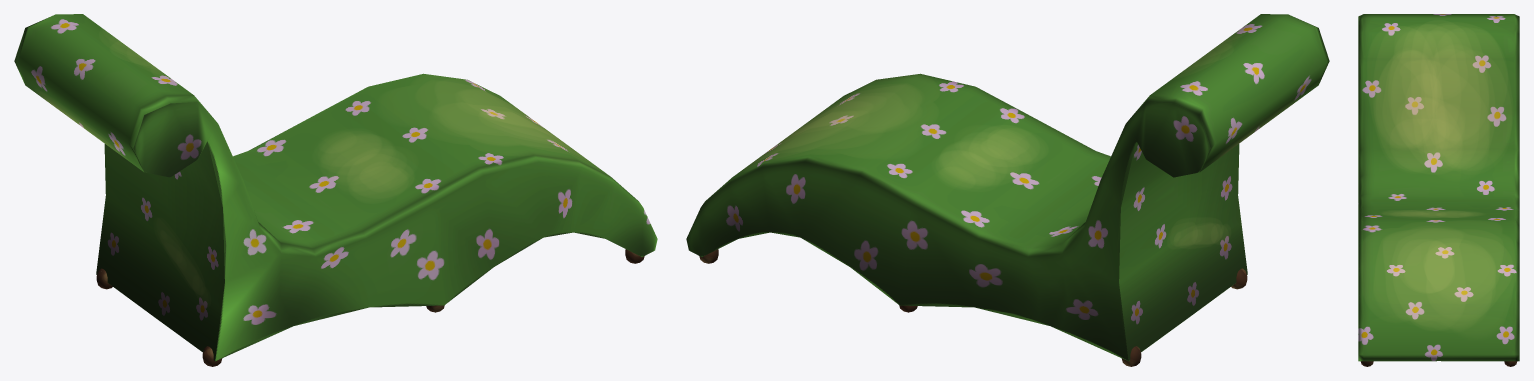
The model's file is chair2.obj.
3 renders of one model, left to right at view 1: azimuth 30°, elevation 25°; view 2: azimuth 150°, elevation 25°; view 3: azimuth 270°, elevation 25°, orthographic. The views are drawn at different scales.
Visible parts, largest first — view 1: chair2; view 2: chair2; view 3: chair2.
Part boxes in pixels (box(x1,y1,x2,y2)): chair2: box(14, 14, 657, 366); chair2: box(686, 14, 1329, 366); chair2: box(1358, 14, 1519, 366).
Bounding box in the file's own units: 202 × 104 × 79.41.
